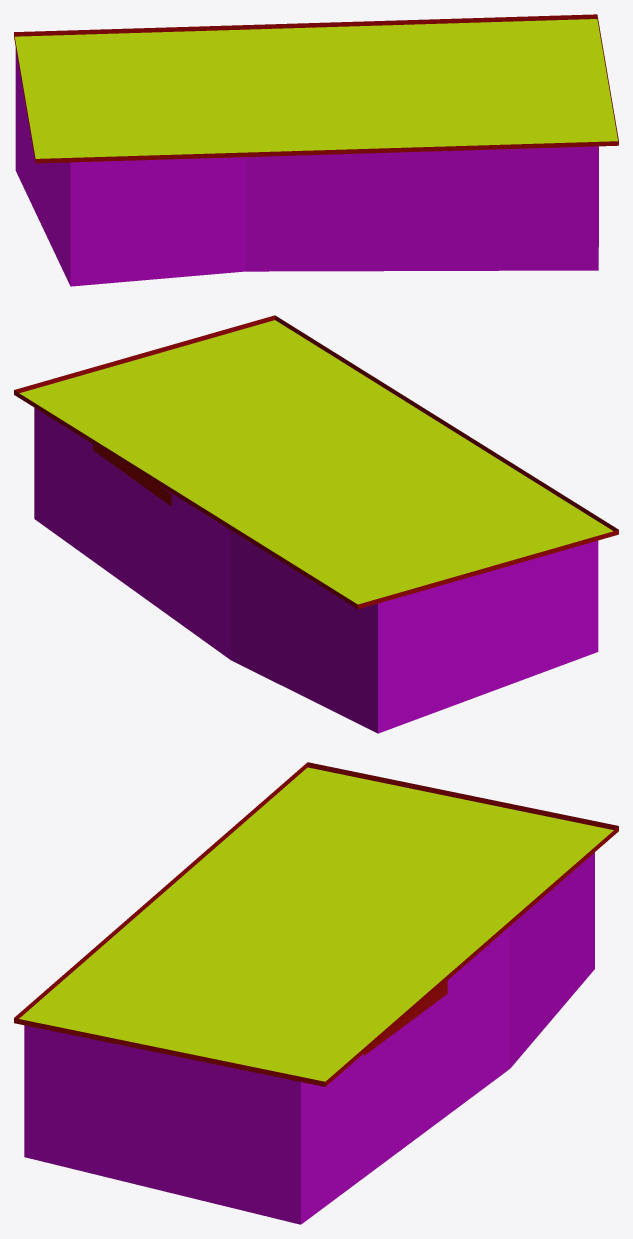
The model's file is ssv_31.glb.
3 views of the same model, one above another, from view 1: azimuth 30°, elevation 25°; view 2: azimuth 150°, elevation 25°; view 3: azimuth 270°, elevation 25° (orthographic). The views are drawn at different scales.
Parts seen in each view (by area): view 1: ssv_31; view 2: ssv_31; view 3: ssv_31.
Part boxes in pixels (x1,y1,x2,y2): ssv_31: (14,14,618,286); ssv_31: (14,315,618,733); ssv_31: (14,762,618,1224).
Size of the model in its own units: 45.74 by 9.88 by 36.59.
